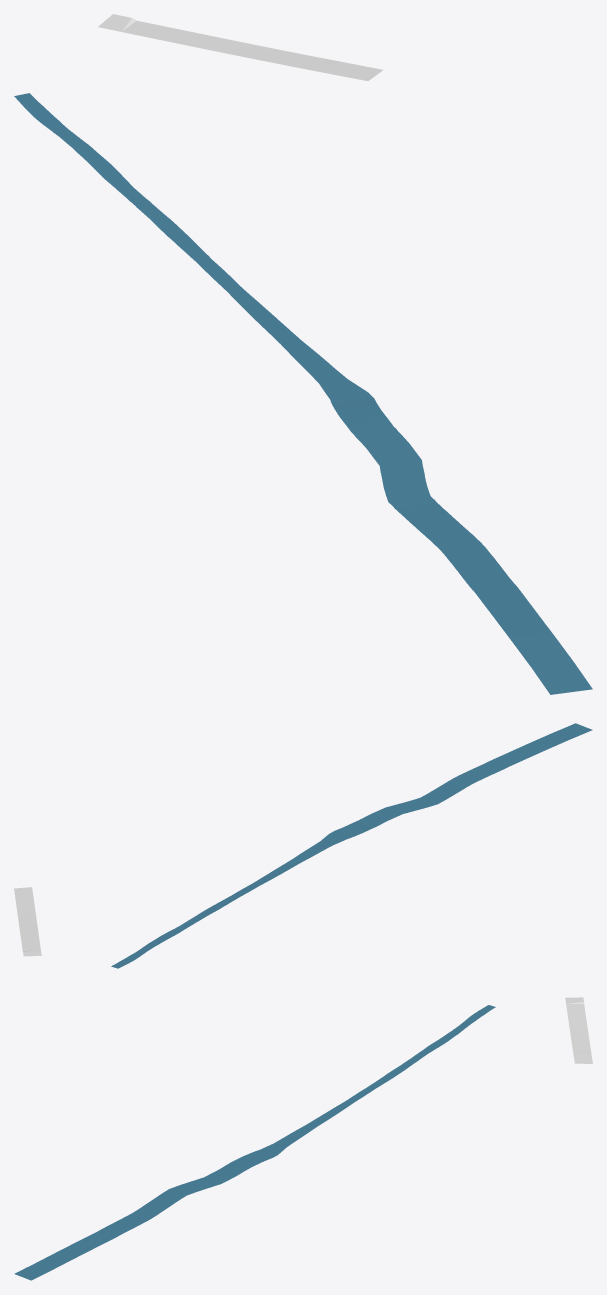
Rendered from objekty.glb.
3 views of the same model, one above another, from view 1: azimuth 30°, elevation 25°; view 2: azimuth 150°, elevation 25°; view 3: azimuth 330°, elevation 25° (orthographic). The views are drawn at different scales.
Visible parts, largest first — view 1: Voda_00_01, Cesty_00_01; view 2: Voda_00_01, Cesty_00_01; view 3: Voda_00_01, Cesty_00_01.
Boxes of the visible parts, bbox=[...] form: Voda_00_01: bbox=[14, 93, 592, 694]; Cesty_00_01: bbox=[98, 14, 382, 80]; Voda_00_01: bbox=[111, 723, 592, 968]; Cesty_00_01: bbox=[14, 887, 41, 956]; Voda_00_01: bbox=[14, 1005, 495, 1280]; Cesty_00_01: bbox=[565, 997, 592, 1063].
Size of the model in its own units: 101 by 10.49 by 288.
